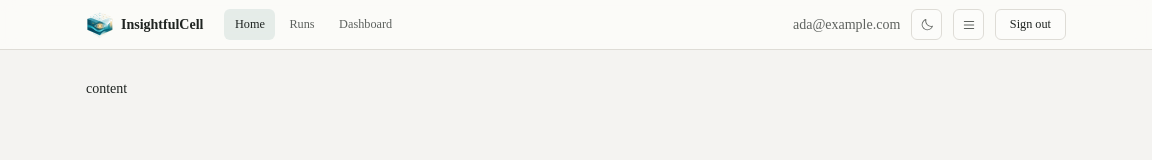
Test: Header menu and theme › switches the theme and remembers it in a cookie
Click the button named "Switch to dark theme" at (927, 25), box [911,9,942,40]
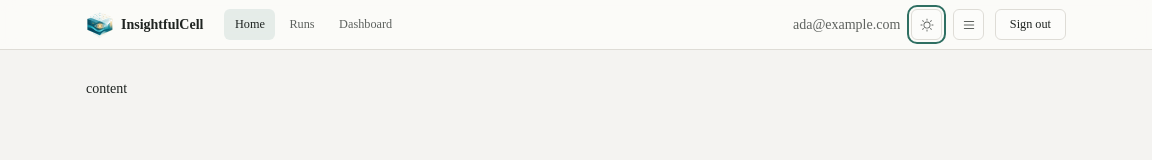
expect the button named "Switch to light theme" is shown: met, box [911,9,942,40]
